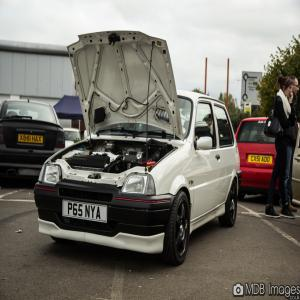Vehicle-registration-plate: (63, 200, 108, 225), (249, 155, 273, 165), (19, 134, 44, 143)
